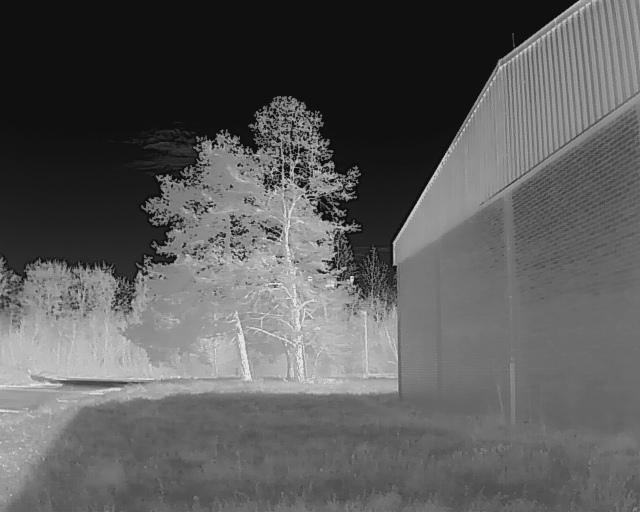drone: (296, 267, 364, 297)
